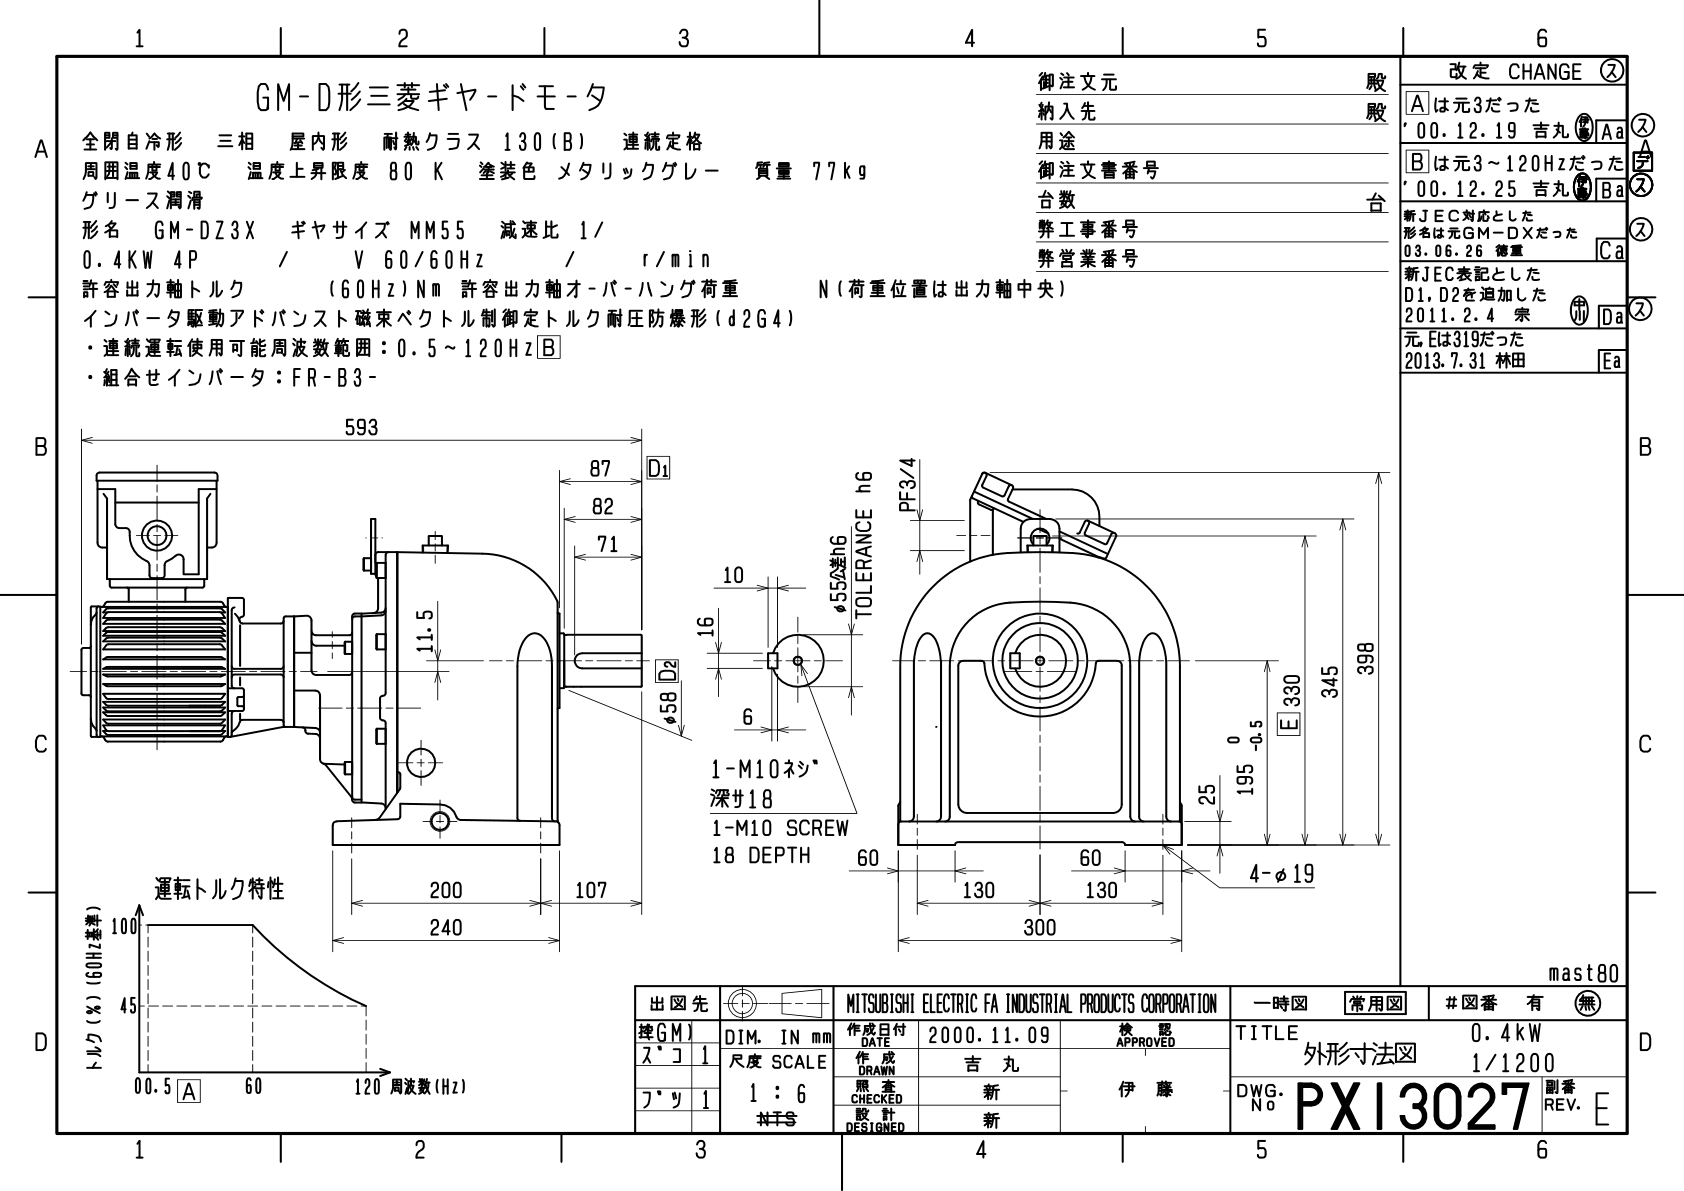GM_D_制御屋内_三相_脚: (1, 1, 1663, 1188)
